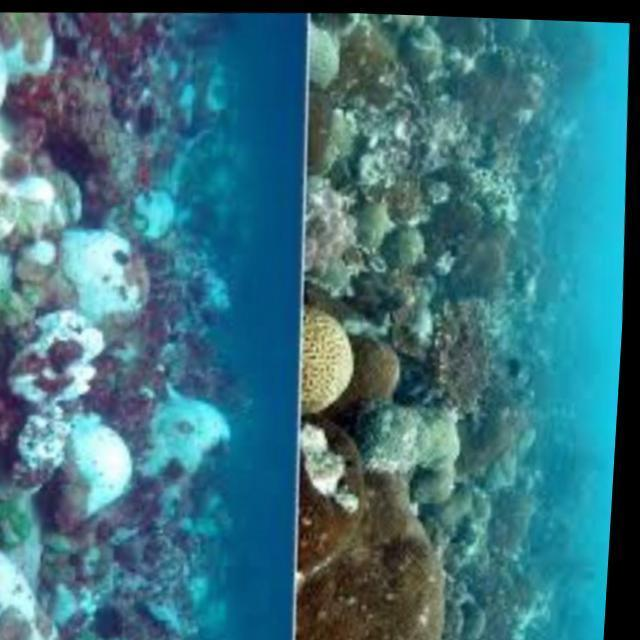Dead Coral: (314, 31, 602, 422)
